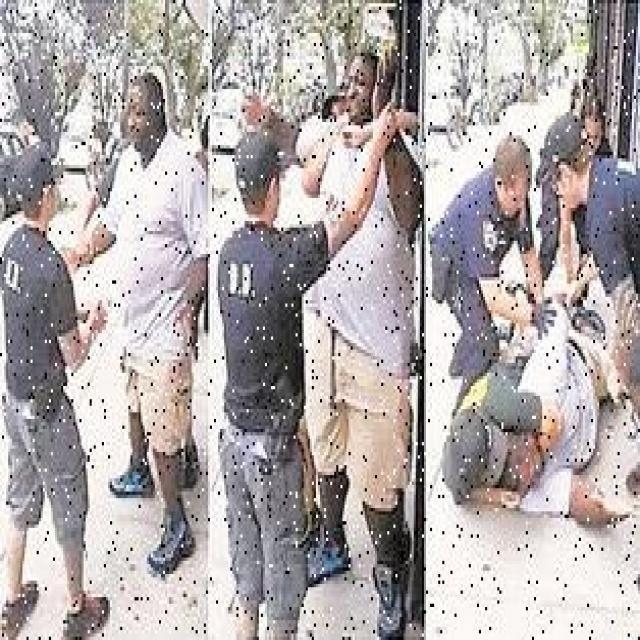fall: (500, 287, 610, 518)
